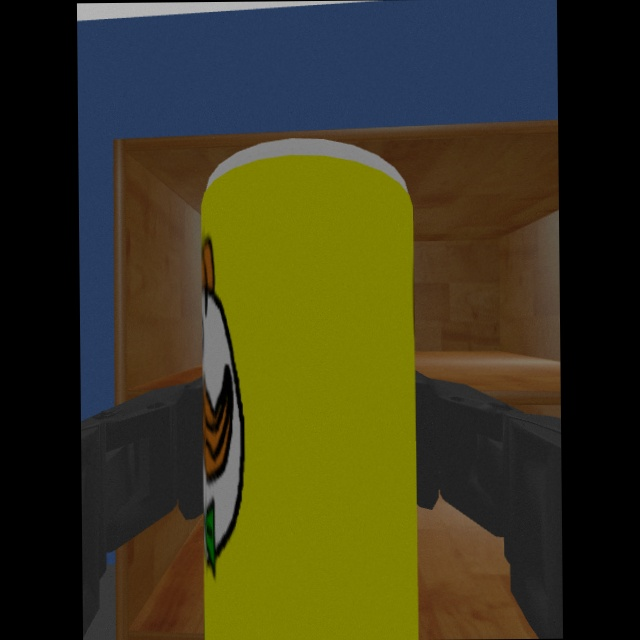chipsdose_gelb: (200, 138, 418, 640)
